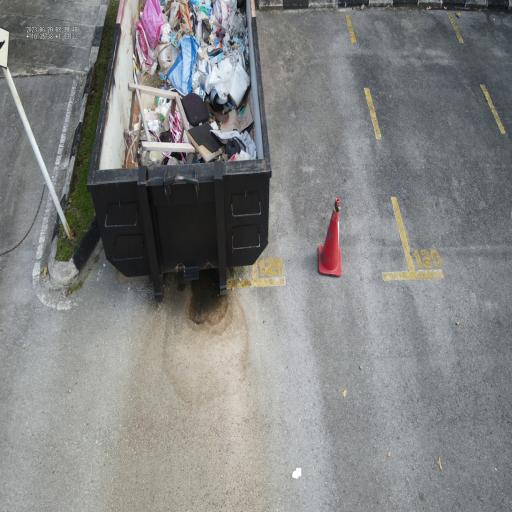Empty: (249, 0, 419, 301)
